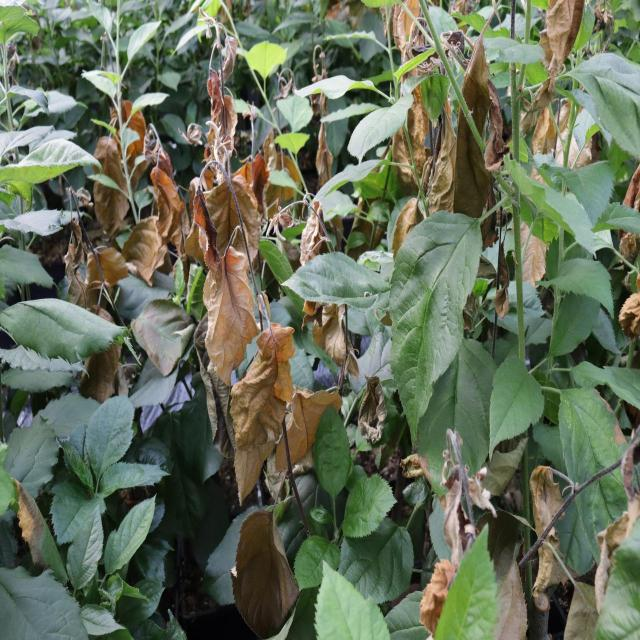-FireBlight-: (205, 80, 278, 513), (408, 5, 501, 217), (92, 103, 178, 274), (408, 454, 456, 619), (539, 0, 588, 153), (528, 463, 566, 599), (288, 389, 334, 466), (316, 50, 338, 188)
